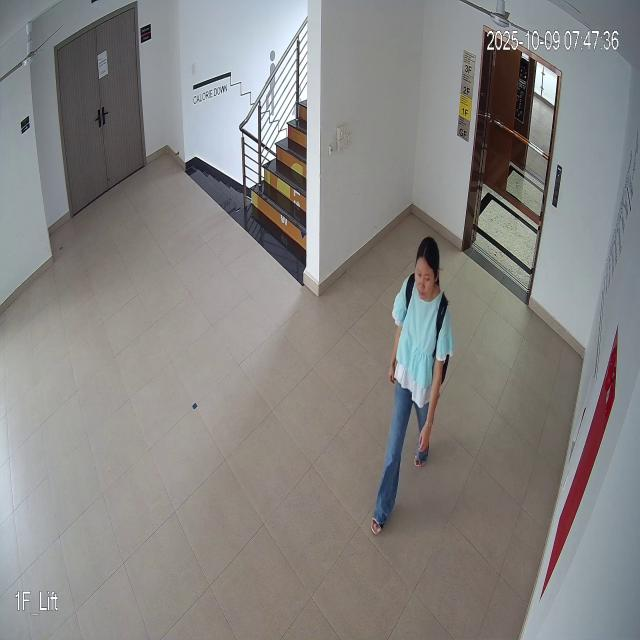face: (406, 230, 447, 310)
